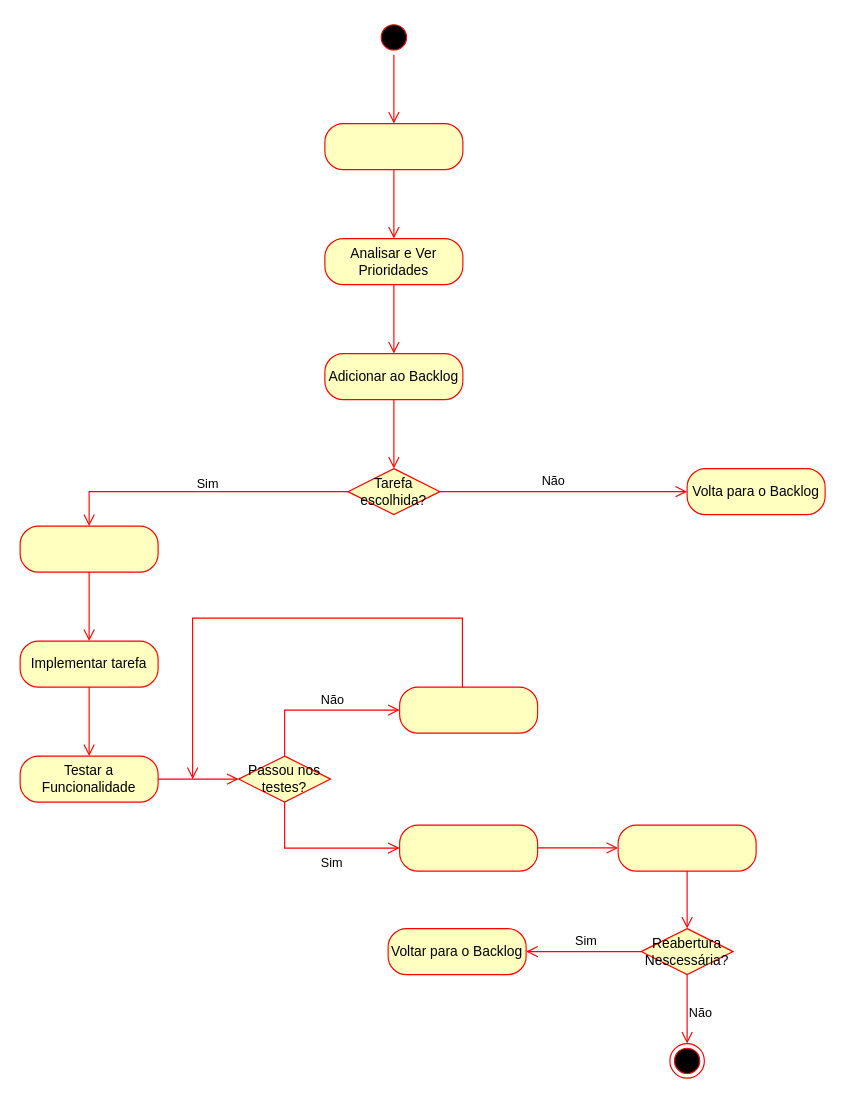
The diagram is 845 pixels wide and 1098 high, and some of its shapes have lost their labels. The shapes that lost their labels are listed below. From the top down, each one's centre as x and y in pixels, then its label:
(393,146): Receber nova tarefa
(88,548): Mover para a "A fazer"
(468,709): Corrigir e Retestar
(468,847): Implantar em Produção
(686,847): Coletar Feedback do Usuário
